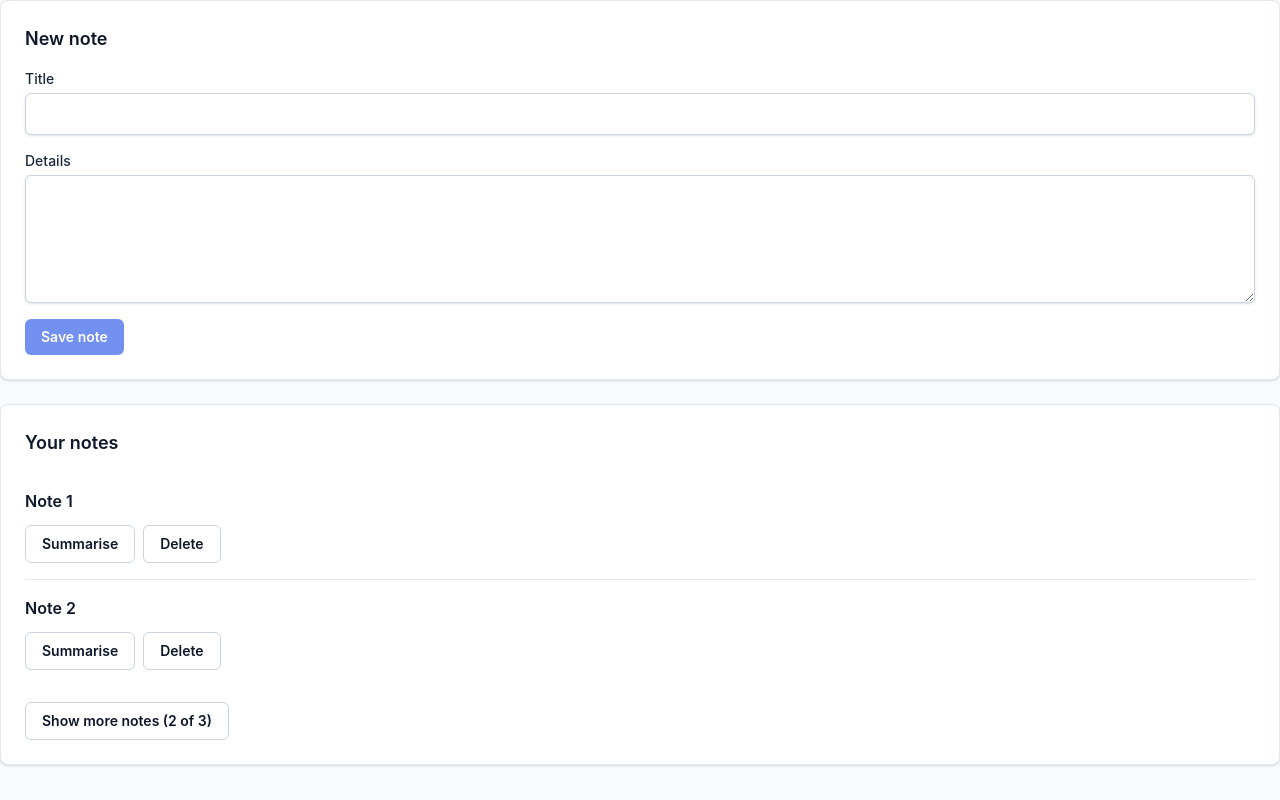
Scenario: Dashboard notes list (T-86) › lets you reach notes beyond the first page
This screenshot has width=1280, height=800.
Expected: the heading "Note 2" is shown, x1=25 y1=598 x2=76 y2=618
Click the button "Show more notes (2 of 3)".
click(127, 721)  # box x1=25 y1=702 x2=229 y2=740
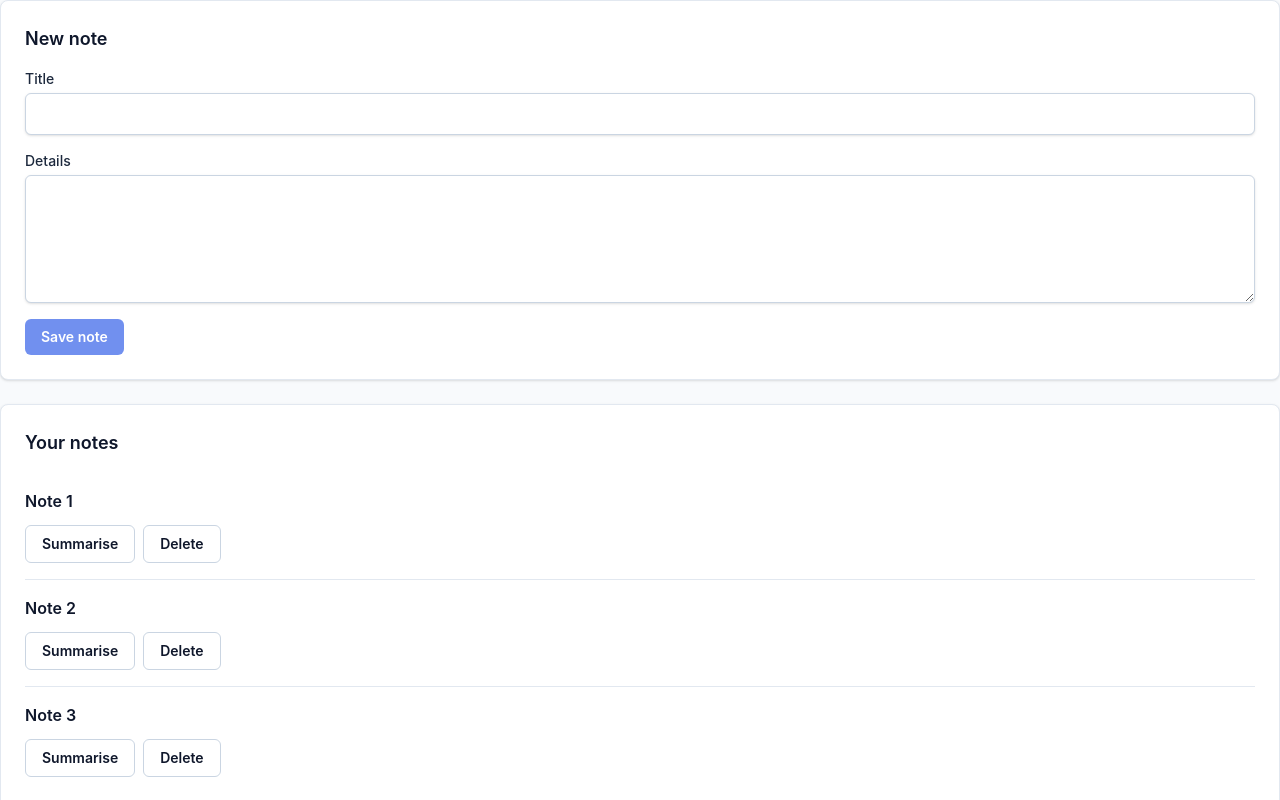
Now the heading "Note 3" is shown, box x1=25 y1=705 x2=76 y2=725
Now the button "Show more" is gone
